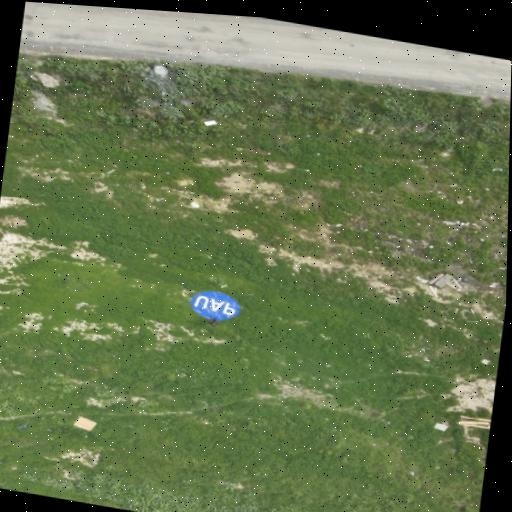person: (207, 318, 217, 325)
uap: (191, 291, 241, 320)
